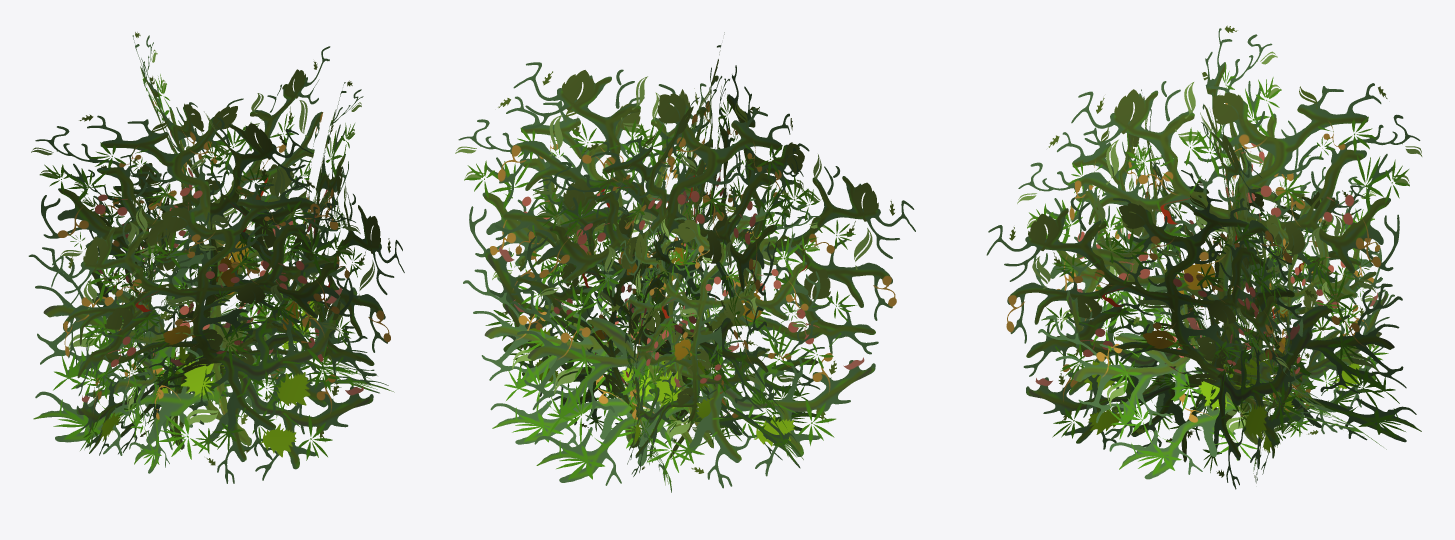
The model's file is fantasy_bush.glb.
The picture shows the model from 3 angles, left to right: view 1: azimuth 30°, elevation 25°; view 2: azimuth 150°, elevation 25°; view 3: azimuth 270°, elevation 25°; orthographic projection. The views are drawn at different scales.
Visible parts, largest first — view 1: Plane004_09 - Default_0; view 2: Plane004_09 - Default_0; view 3: Plane004_09 - Default_0.
Part boxes in pixels (x1,y1,x2,y2): Plane004_09 - Default_0: (28,32,404,483); Plane004_09 - Default_0: (455,32,915,492); Plane004_09 - Default_0: (986,25,1422,489).
Size of the model in its own units: 1.19 by 1.13 by 1.16.
1 material, 1 textured.
